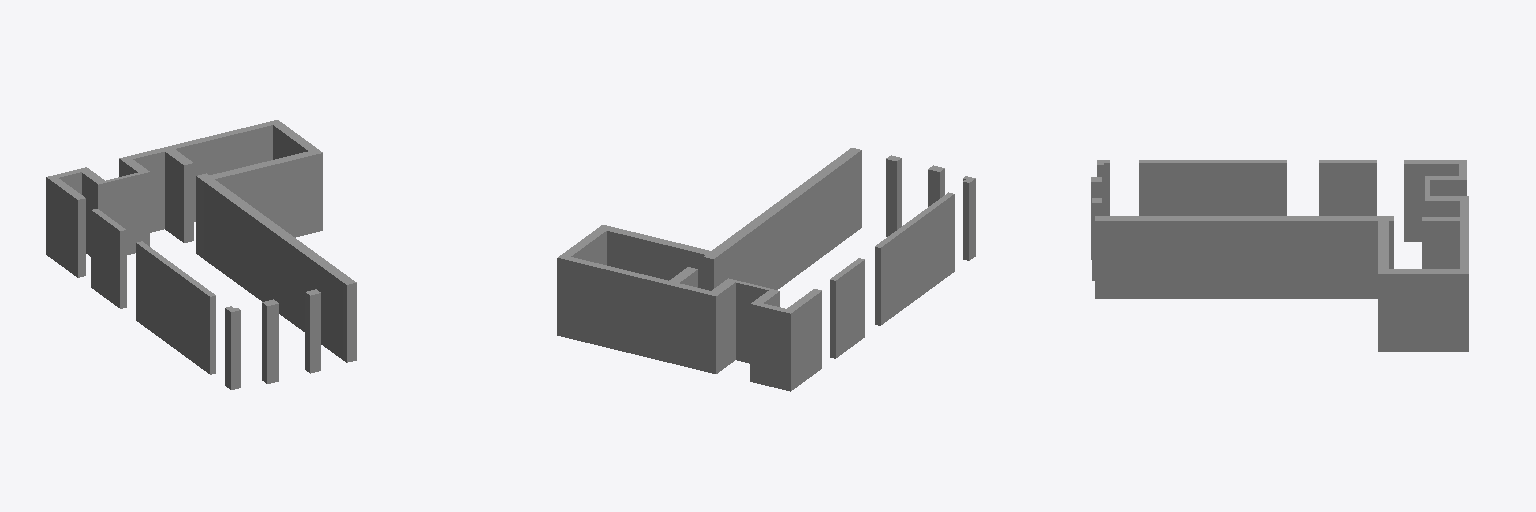
File: couloir_f2.obj
The picture shows the model from 3 angles: view 1: azimuth 30°, elevation 25°; view 2: azimuth 150°, elevation 25°; view 3: azimuth 270°, elevation 25°; orthographic projection.
Visible parts, largest first — view 1: couloir_f2_Cube_Cube.004; view 2: couloir_f2_Cube_Cube.004; view 3: couloir_f2_Cube_Cube.004.
Boxes of the visible parts, box(x1,y1,x2,y2) form: couloir_f2_Cube_Cube.004: box(46, 120, 356, 389); couloir_f2_Cube_Cube.004: box(557, 148, 975, 391); couloir_f2_Cube_Cube.004: box(1091, 160, 1468, 351).
Bounding box in the file's own units: 6.87 × 2.2 × 9.66.